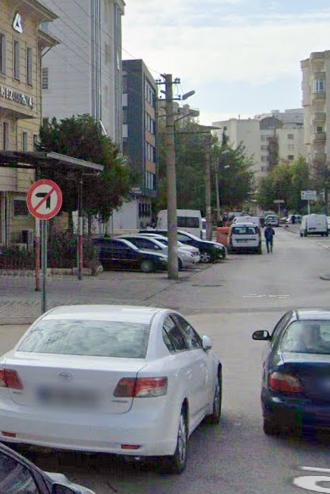leftturnsareforbidden: (29, 181, 62, 219)
